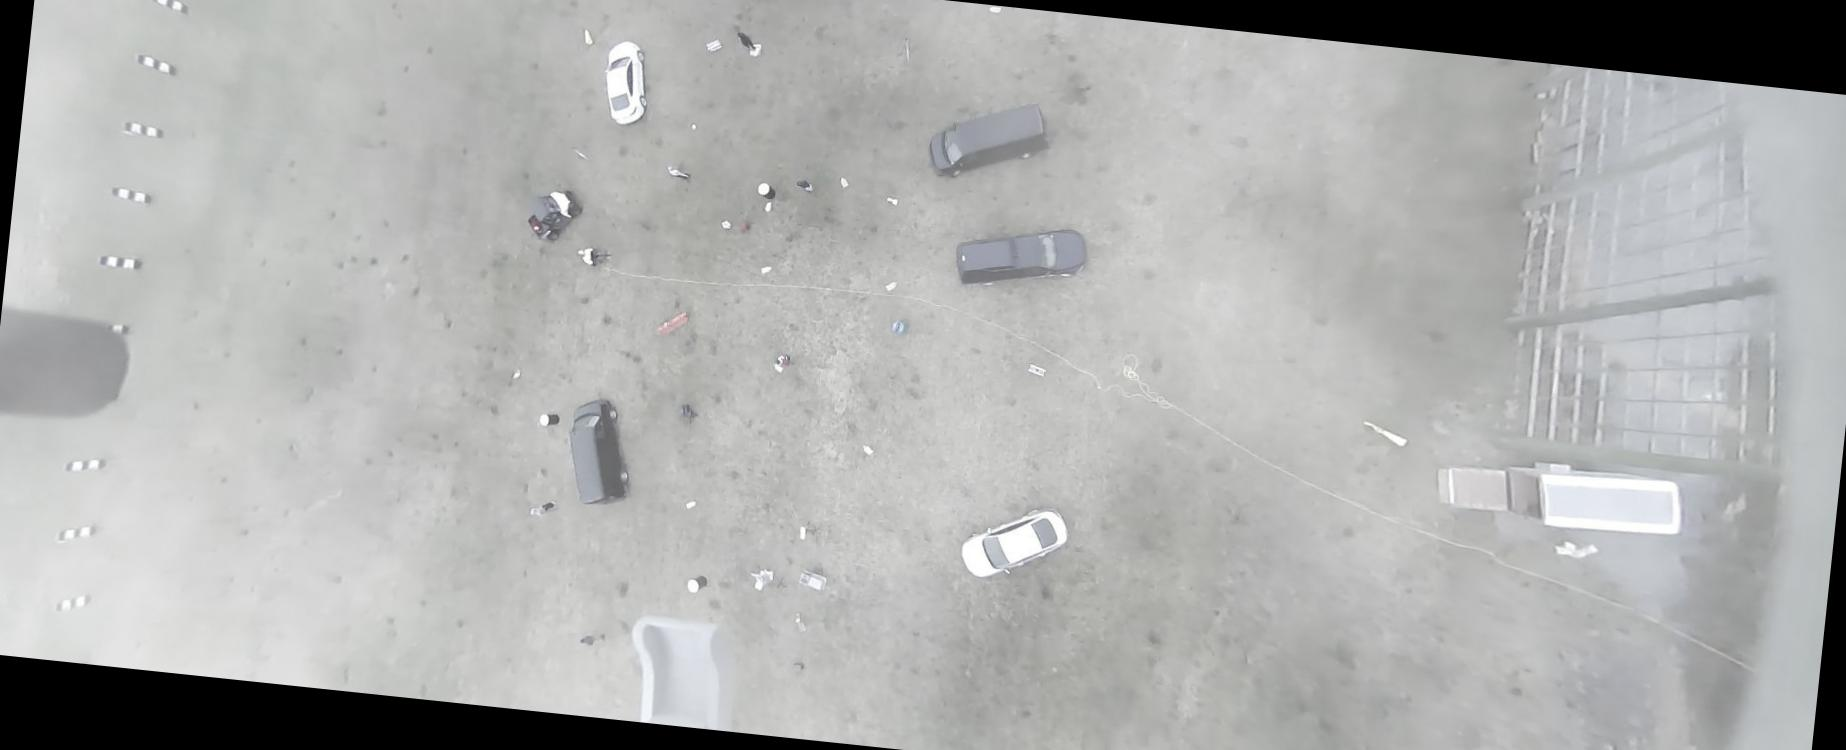vehicle: (925, 93, 1056, 188), (952, 217, 1093, 299), (957, 499, 1073, 586), (560, 397, 637, 510), (598, 39, 655, 128), (527, 187, 585, 246)
